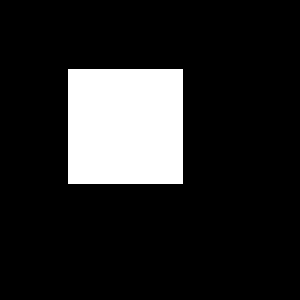circle: (68, 69, 183, 184)
